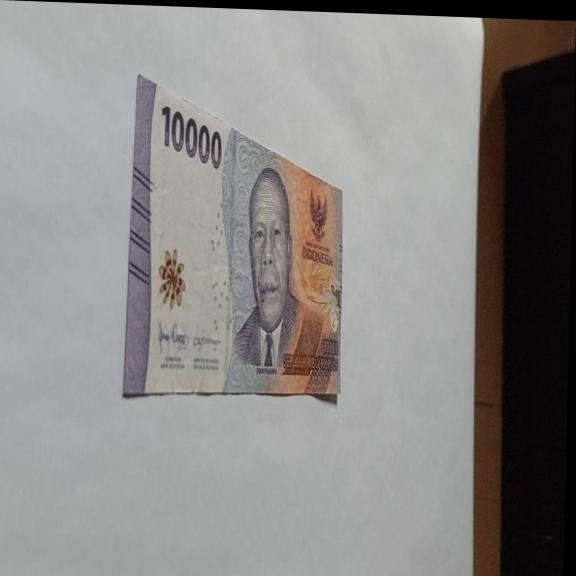Kertas: (123, 72, 348, 406), (158, 102, 224, 171)
